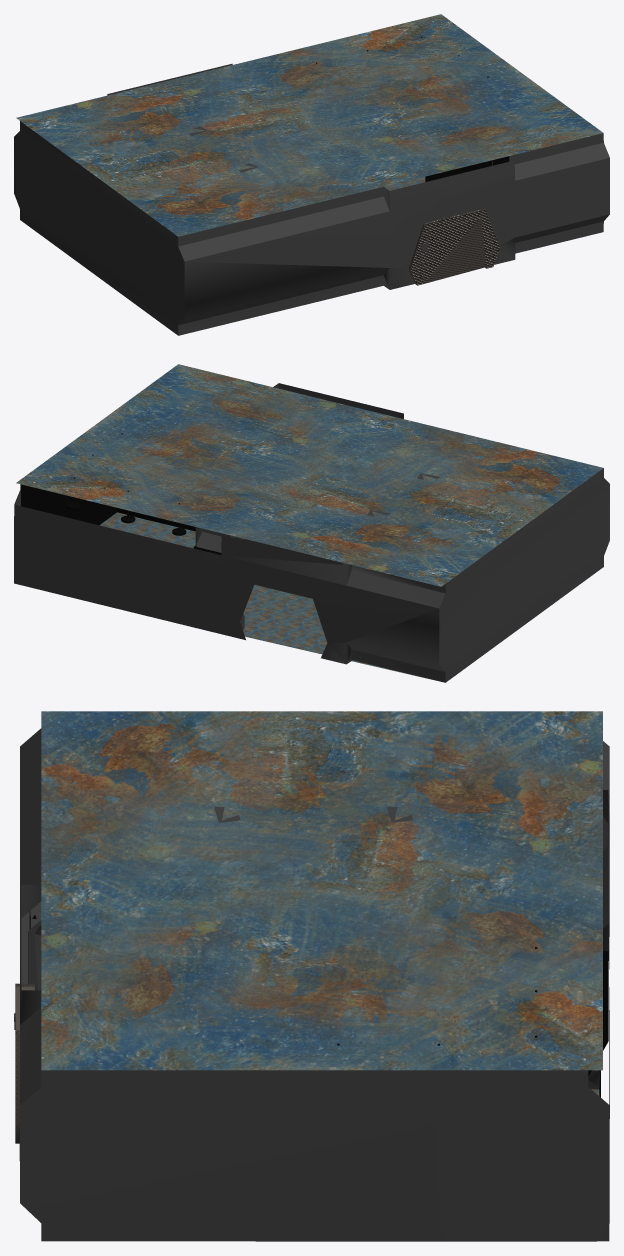
The model's file is vestuario.obj.
The picture shows the model from 3 angles, top to bottom: view 1: azimuth 30°, elevation 25°; view 2: azimuth 150°, elevation 25°; view 3: azimuth 270°, elevation 25°; orthographic projection. The views are drawn at different scales.
Parts seen in each view (by area): view 1: vestuario:pPlane5, vestuario:polySurface2703; view 2: vestuario:pPlane5; view 3: vestuario:pPlane5, vestuario:polySurface2703.
Boxes of the visible parts, left/top/right/bottom form: vestuario:pPlane5: left=14, top=14, right=609, bottom=335; vestuario:polySurface2703: left=408, top=209, right=500, bottom=285; vestuario:pPlane5: left=14, top=364, right=609, bottom=682; vestuario:pPlane5: left=19, top=711, right=609, bottom=1241; vestuario:polySurface2703: left=14, top=983, right=34, bottom=1143.
Size of the model in its own units: 90.94 by 20.55 by 63.8.
